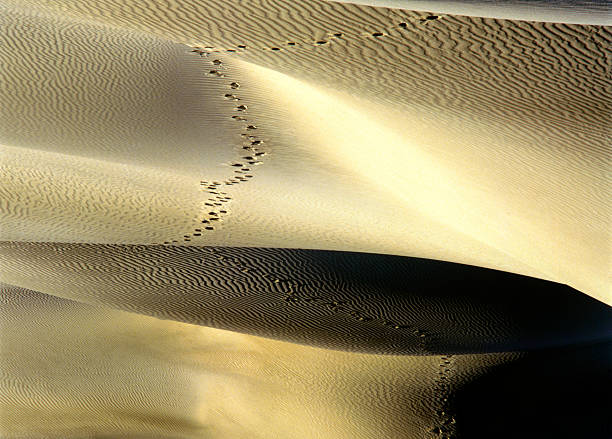human_foot_print: (182, 103, 267, 242)
